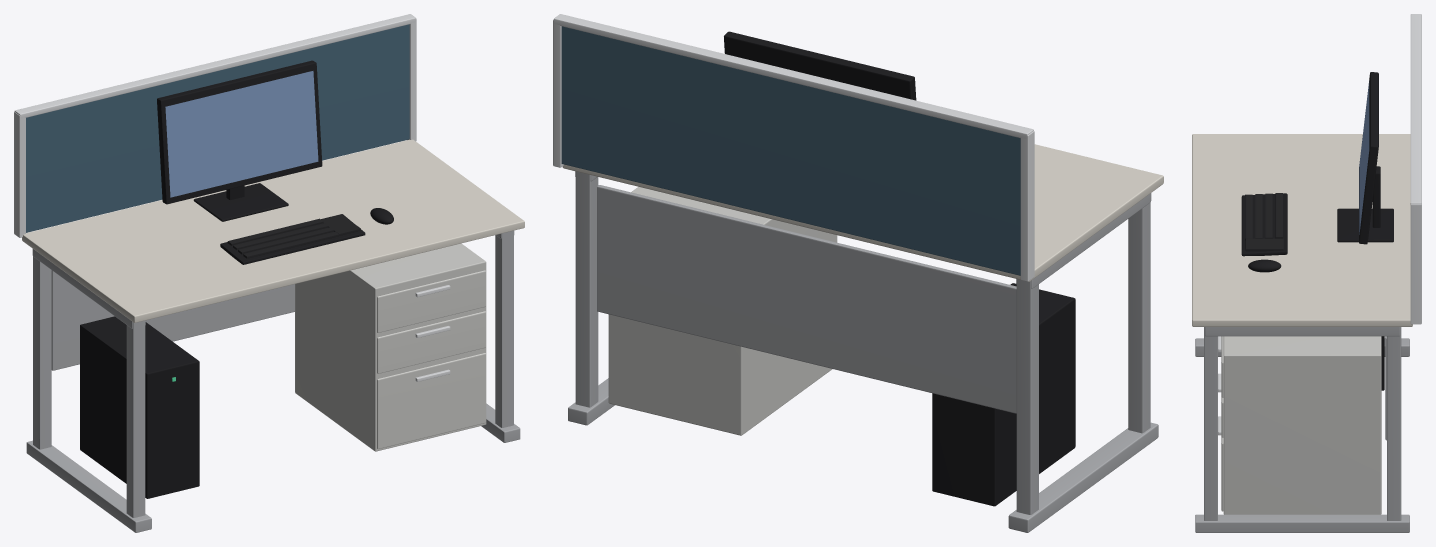
File: ban_lam_viec.glb
3 renders of one model, left to right at view 1: azimuth 30°, elevation 25°; view 2: azimuth 150°, elevation 25°; view 3: azimuth 270°, elevation 25°, orthographic. The views are drawn at different scales.
Visible parts, largest first — view 1: ban_lam_viec; view 2: ban_lam_viec; view 3: ban_lam_viec.
Boxes of the visible parts, x1=… form: ban_lam_viec: x1=14, y1=14, x2=524, y2=532; ban_lam_viec: x1=553, y1=14, x2=1163, y2=532; ban_lam_viec: x1=1192, y1=14, x2=1421, y2=532.
Size of the model in its own units: 1.42 by 1.16 by 0.728.
